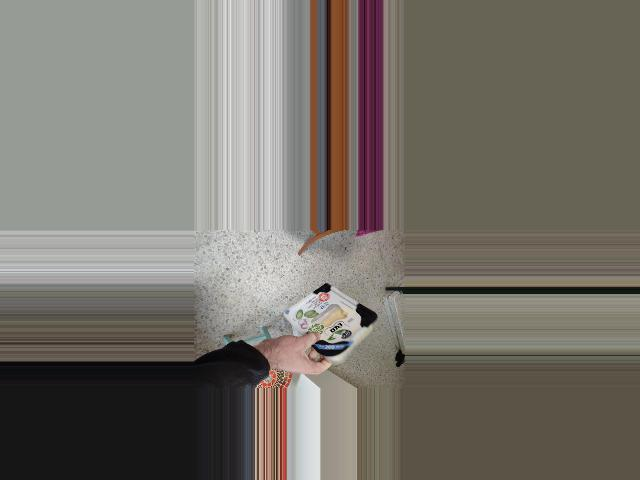cheese: (298, 274, 374, 380)
